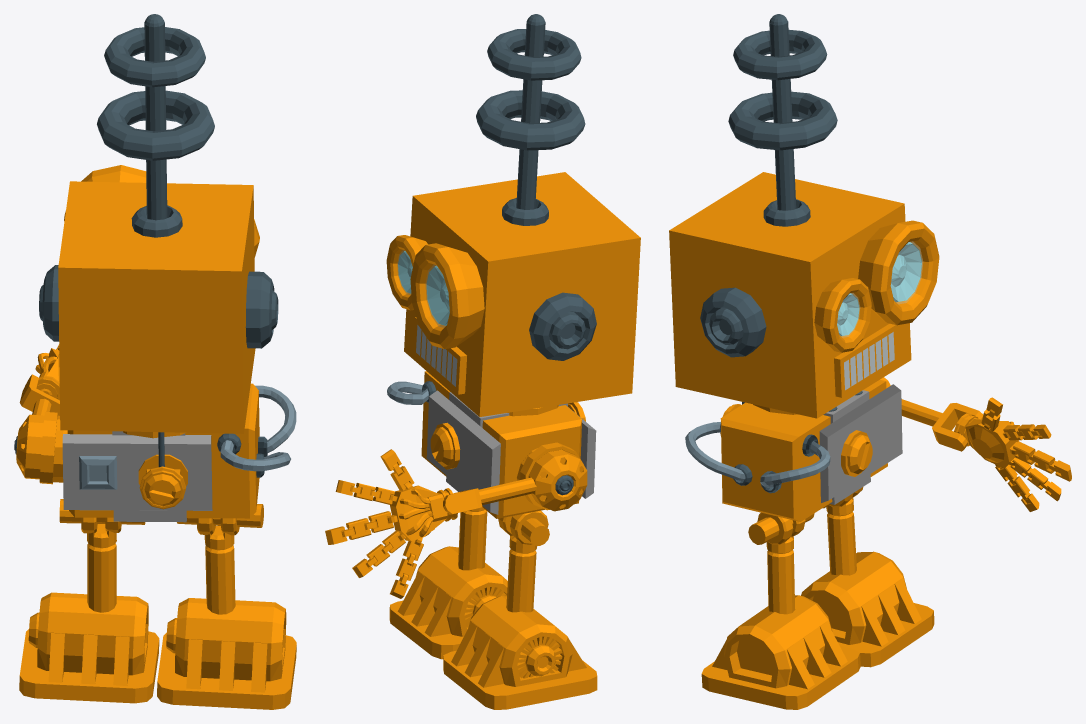
File: meRobot.obj
The picture shows the model from 3 angles, left to right: view 1: azimuth 30°, elevation 25°; view 2: azimuth 150°, elevation 25°; view 3: azimuth 270°, elevation 25°; orthographic projection. The views are drawn at different scales.
Parts seen in each view (by area): view 1: group97846399, group1961268007, group2038348446, group2031160792, group1399619186, group1147486435, group1526548565, group475278586, group1483714145; view 2: group97846399, group1961268007, group2031160792, group2038348446, group475278586, group1526548565, group1147486435, group1483714145, group1399619186; view 3: group97846399, group1961268007, group2038348446, group2031160792, group475278586, group1399619186, group1147486435, group1483714145.
Part boxes in pixels (x1,y1,x2,y2): group97846399: [39, 14, 278, 438]; group1961268007: [53, 383, 296, 522]; group2038348446: [157, 598, 296, 709]; group2031160792: [19, 592, 159, 703]; group1399619186: [177, 504, 263, 614]; group1147486435: [59, 499, 145, 612]; group1526548565: [14, 412, 57, 484]; group475278586: [35, 344, 59, 399]; group1483714145: [19, 374, 59, 415]; group97846399: [386, 14, 640, 416]; group1961268007: [387, 371, 596, 518]; group2031160792: [443, 596, 597, 709]; group2038348446: [389, 546, 507, 659]; group475278586: [325, 449, 457, 598]; group1526548565: [520, 442, 587, 511]; group1147486435: [498, 510, 549, 612]; group1483714145: [443, 477, 536, 514]; group1399619186: [458, 507, 487, 570]; group97846399: [669, 14, 939, 418]; group1961268007: [685, 380, 902, 521]; group2038348446: [701, 595, 860, 709]; group2031160792: [801, 551, 934, 667]; group475278586: [954, 397, 1071, 511]; group1399619186: [748, 512, 814, 614]; group1147486435: [822, 487, 863, 575]; group1483714145: [901, 399, 983, 451].
Bounding box in the file's own units: 1.34 × 3.46 × 2.
